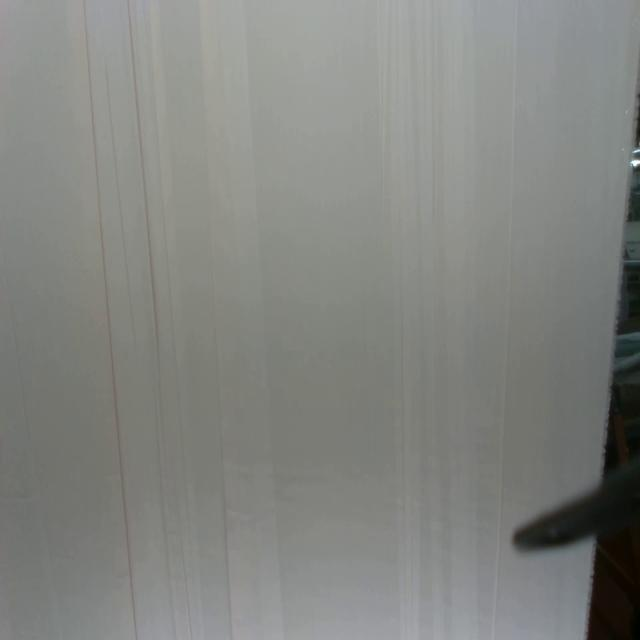crease: (198, 2, 284, 635), (82, 0, 137, 638), (130, 0, 178, 640), (376, 0, 413, 640), (418, 0, 446, 640), (496, 0, 522, 521), (150, 2, 179, 350), (105, 65, 136, 344), (4, 257, 32, 441), (492, 520, 501, 640)
